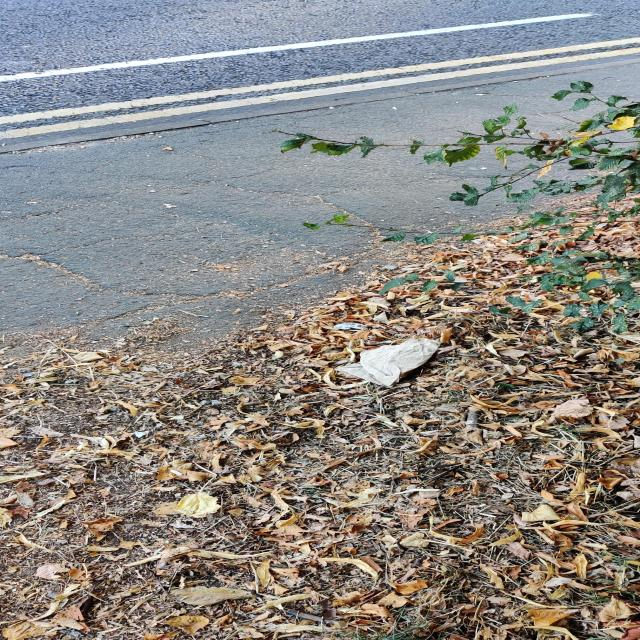litter: (334, 337, 442, 388), (333, 322, 365, 330)
